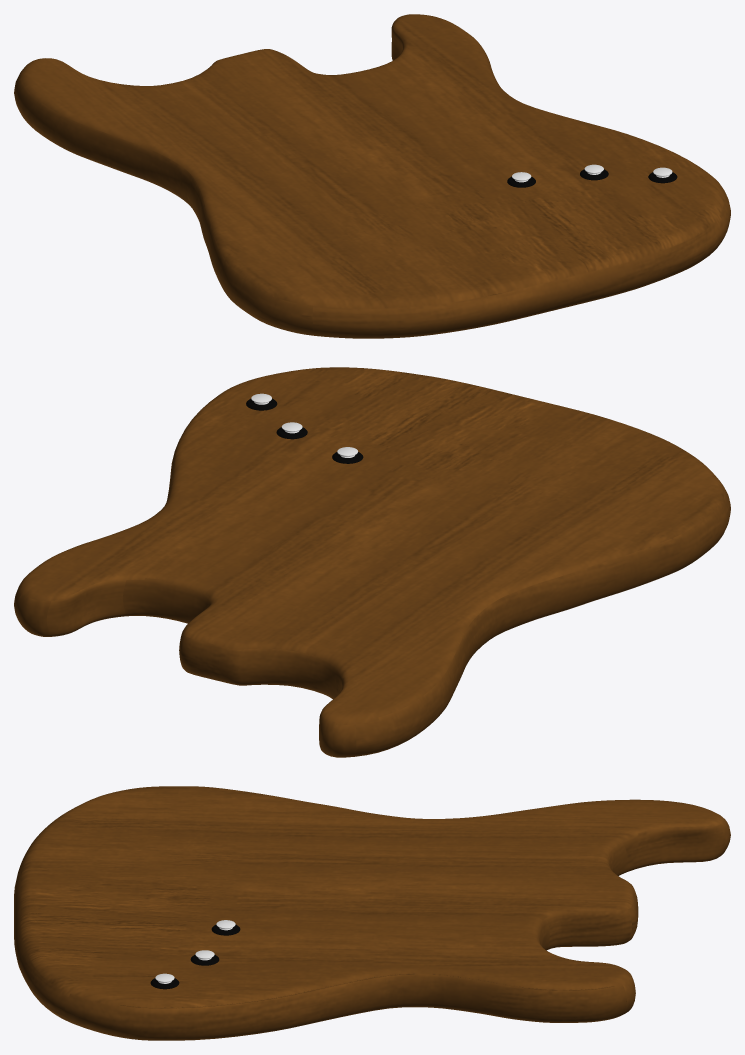
Rendered from Estratocaster_Fresno.glb.
The picture shows the model from 3 angles, top to bottom: view 1: azimuth 30°, elevation 25°; view 2: azimuth 150°, elevation 25°; view 3: azimuth 270°, elevation 25°; orthographic projection. The views are drawn at different scales.
Visible parts, largest first — view 1: Estratocaster_Fresno; view 2: Estratocaster_Fresno; view 3: Estratocaster_Fresno.
Part boxes in pixels (x1,y1,x2,y2): Estratocaster_Fresno: (14, 14, 730, 338); Estratocaster_Fresno: (14, 367, 730, 757); Estratocaster_Fresno: (14, 786, 730, 1040).
Bounding box in the file's own units: 2.1 × 0.2002 × 2.81.
Materials: 3 (1 with a texture image).
